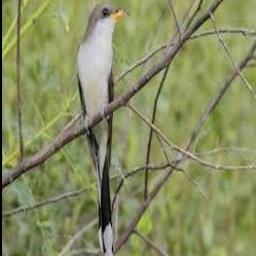Cuckoo: (76, 4, 131, 256)
